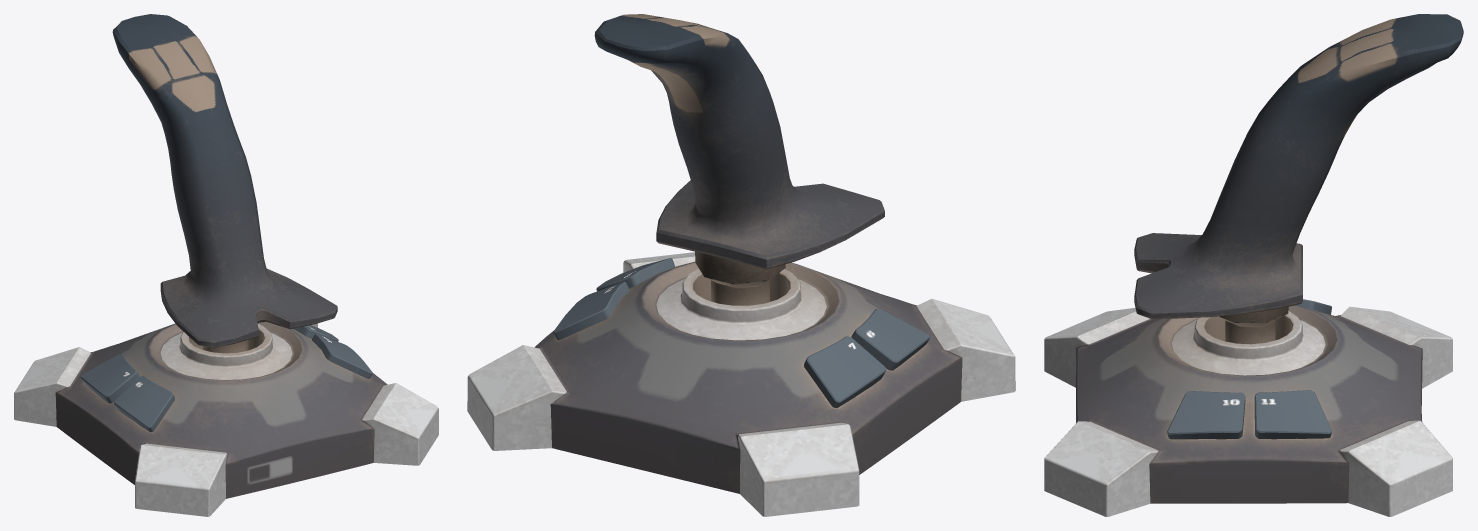
Rendered from JoyStick1 1.fbx.
3 views of the same model, side by side, from view 1: azimuth 30°, elevation 25°; view 2: azimuth 150°, elevation 25°; view 3: azimuth 270°, elevation 25° (orthographic). The views are drawn at different scales.
Parts seen in each view (by area): view 1: Joystick, manche; view 2: Joystick, manche; view 3: Joystick, manche.
Part boxes in pixels (x1,y1,x2,y2): Joystick: (14, 321, 438, 516); manche: (112, 14, 337, 353); Joystick: (467, 252, 1015, 516); manche: (594, 14, 884, 305); Joystick: (1044, 299, 1452, 516); manche: (1134, 14, 1463, 344).
Bounding box in the file's own units: 19 × 20.69 × 19.49.
